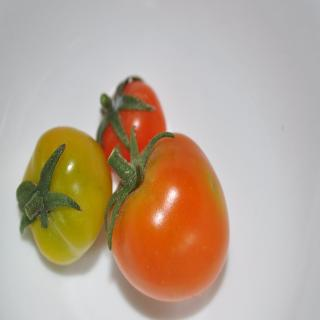tomato: (109, 137, 229, 306), (16, 126, 112, 268), (96, 74, 167, 161)
